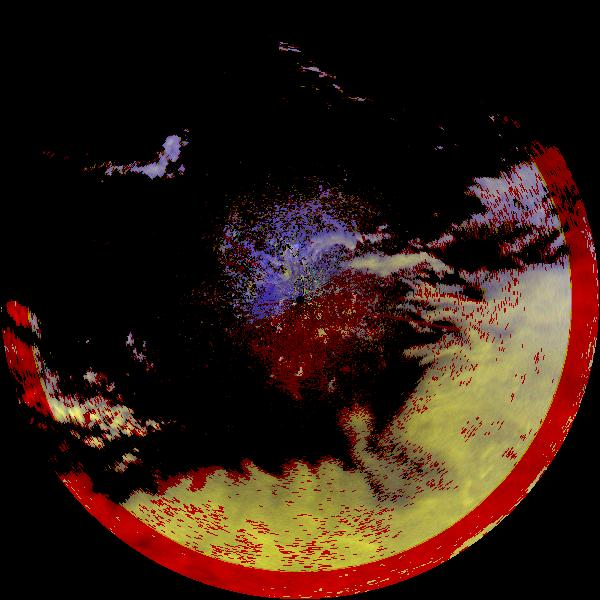roost: (292, 365, 310, 383)
